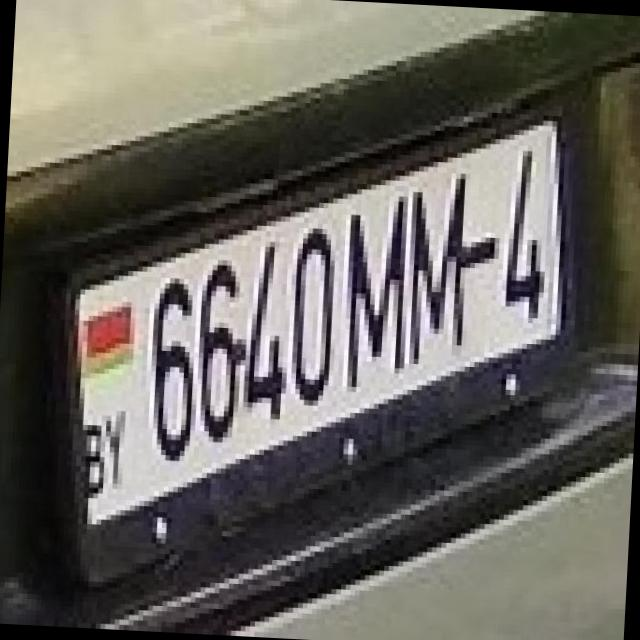0: (271, 211, 342, 407)
4: (481, 128, 557, 324), (228, 224, 294, 420)
6: (127, 256, 204, 462), (176, 242, 247, 443)
M: (390, 155, 485, 367), (328, 183, 408, 394)
